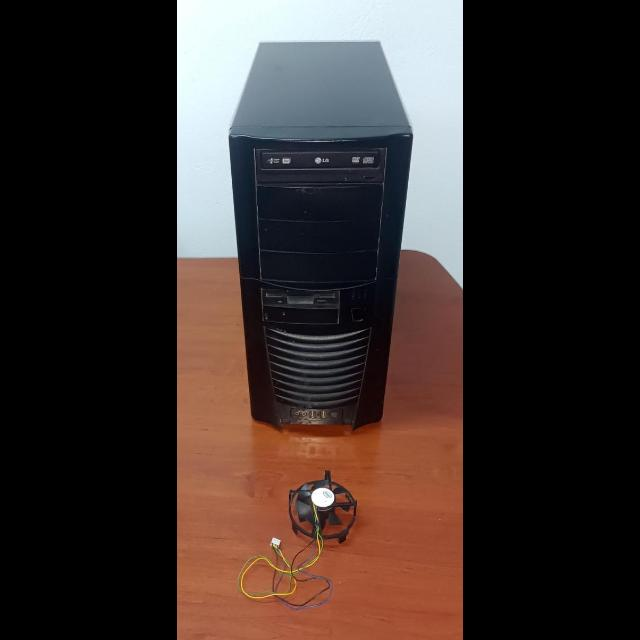Desktop-PC: (228, 42, 410, 434)
